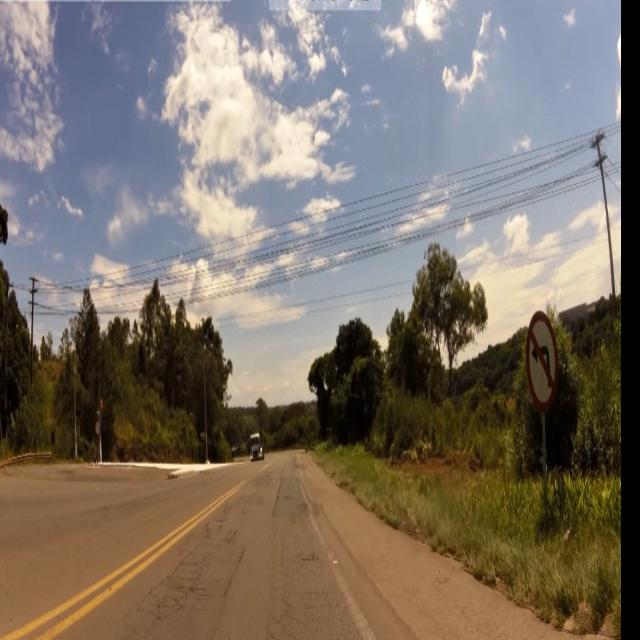R-4a: (525, 306, 563, 414)
